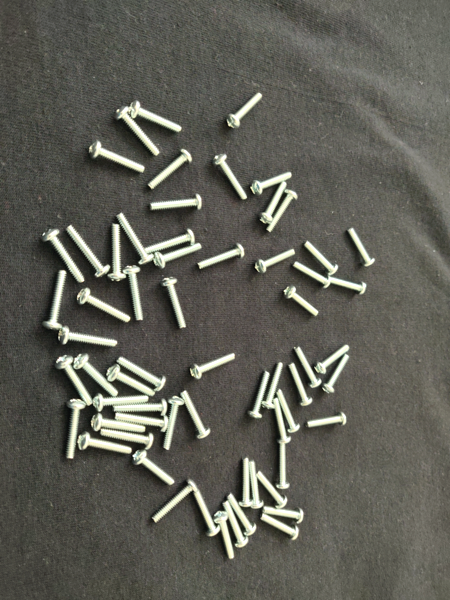longscrew: (41, 228, 86, 286), (66, 224, 112, 279), (114, 105, 161, 157), (151, 478, 199, 525), (89, 139, 146, 178), (116, 210, 155, 266), (73, 353, 120, 398), (76, 287, 132, 324), (55, 354, 93, 408), (147, 149, 193, 191), (115, 356, 167, 393), (128, 99, 184, 133), (212, 152, 249, 200), (105, 364, 157, 398), (179, 390, 212, 440), (41, 270, 68, 331), (132, 449, 175, 487), (78, 431, 133, 459), (160, 276, 188, 330), (265, 189, 299, 233), (63, 399, 87, 461), (152, 241, 203, 270), (192, 488, 221, 538), (227, 491, 258, 537), (144, 228, 196, 255), (58, 325, 119, 348), (161, 395, 186, 451), (189, 351, 237, 380), (197, 242, 246, 270), (223, 499, 250, 549), (256, 470, 289, 510), (304, 240, 340, 276), (258, 181, 288, 224), (227, 92, 263, 127), (107, 223, 128, 283), (122, 265, 144, 322), (92, 392, 151, 413), (247, 371, 272, 420), (91, 412, 149, 433), (295, 346, 323, 389), (292, 260, 332, 290), (347, 227, 376, 268), (322, 354, 351, 395), (284, 286, 320, 319), (101, 429, 155, 451), (314, 344, 351, 376), (261, 362, 285, 410), (289, 362, 314, 408), (254, 248, 297, 274), (261, 513, 300, 541), (277, 389, 301, 434), (213, 511, 235, 560), (251, 171, 294, 196), (113, 398, 169, 417), (114, 413, 170, 432), (150, 193, 203, 213), (272, 398, 292, 445), (238, 456, 255, 508), (327, 275, 369, 296), (262, 505, 305, 524), (274, 442, 291, 490), (249, 460, 265, 510), (305, 412, 348, 430)
